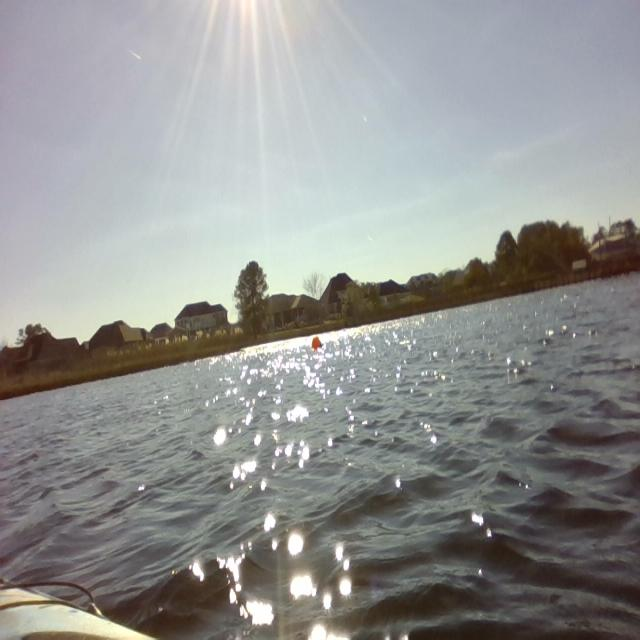Buoy: (304, 332, 328, 356)
